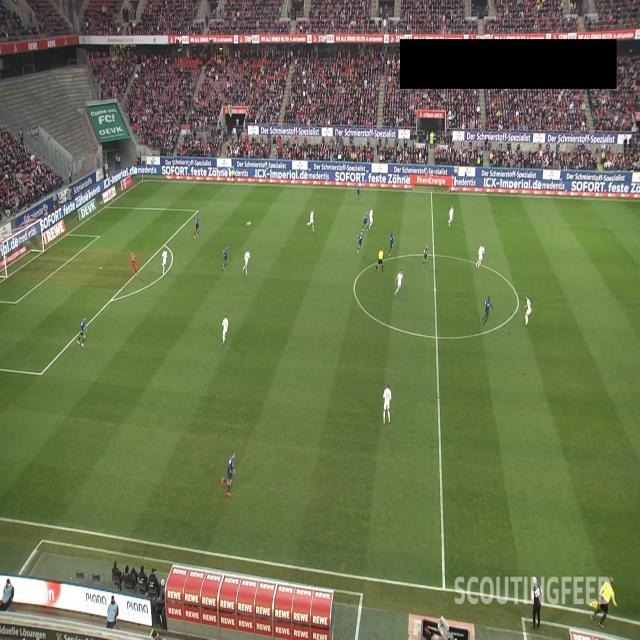ball: (246, 220, 252, 228)
